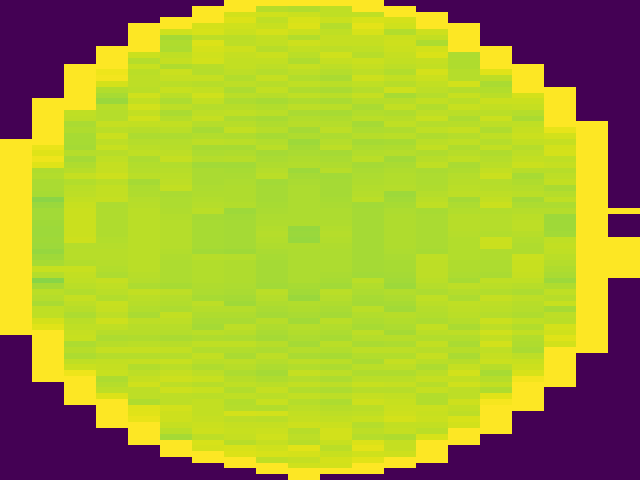sphere: (3, 3, 640, 480)
